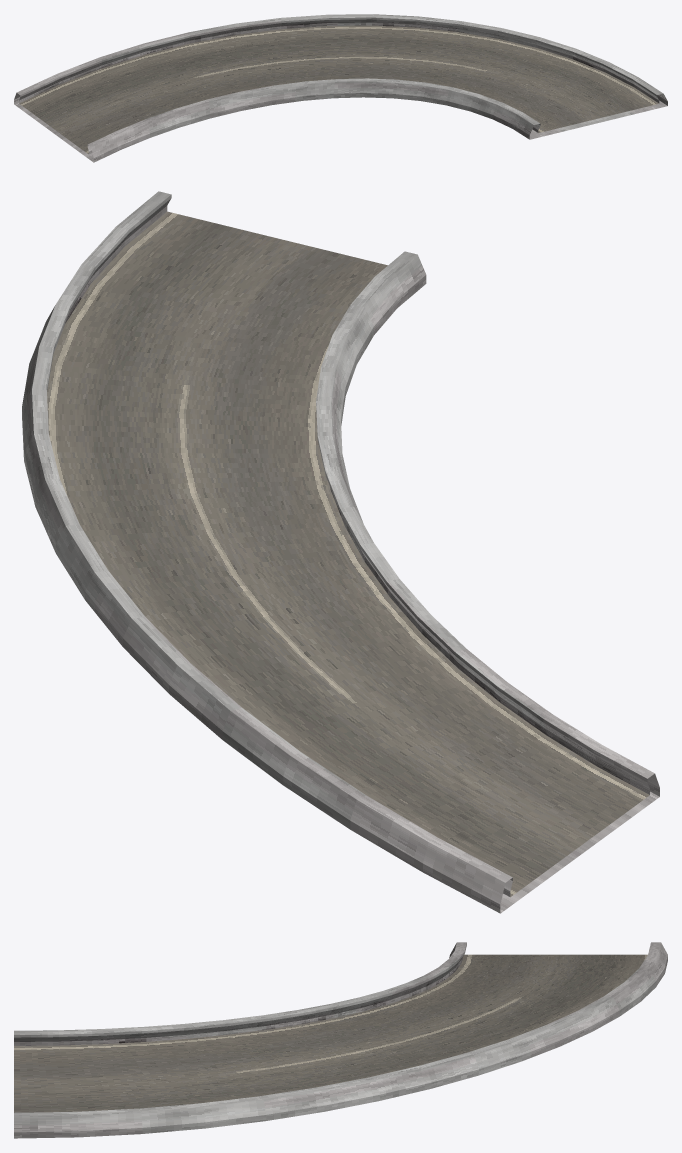
File: turn-left3x3.glb
The picture shows the model from 3 angles, top to bottom: view 1: azimuth 30°, elevation 25°; view 2: azimuth 150°, elevation 25°; view 3: azimuth 270°, elevation 25°; orthographic projection. The views are drawn at different scales.
Parts seen in each view (by area): view 1: road-Turn-Flat-BiSlopeDown-Down2-Left-Size3; view 2: road-Turn-Flat-BiSlopeDown-Down2-Left-Size3; view 3: road-Turn-Flat-BiSlopeDown-Down2-Left-Size3.
Boxes of the visible parts, box(x1,y1,x2,y2) form: road-Turn-Flat-BiSlopeDown-Down2-Left-Size3: box(14, 14, 667, 162); road-Turn-Flat-BiSlopeDown-Down2-Left-Size3: box(22, 191, 659, 913); road-Turn-Flat-BiSlopeDown-Down2-Left-Size3: box(14, 942, 667, 1138).
Bounding box in the file's own units: 3 × 0.5938 × 3.
Materials: 2 (2 with a texture image).
